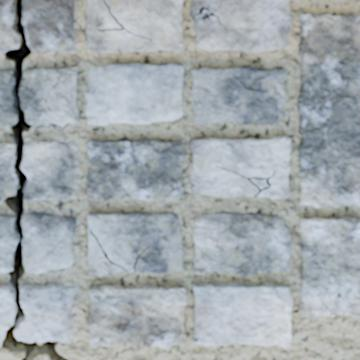brick: (298, 13, 359, 206), (88, 285, 187, 347), (194, 283, 291, 346), (190, 136, 290, 197), (87, 137, 184, 199), (193, 212, 289, 274), (86, 63, 183, 124), (300, 217, 359, 317), (88, 213, 181, 272), (191, 66, 285, 124), (191, 0, 292, 52), (86, 0, 182, 51), (88, 234, 122, 274)
broken_brick: (21, 66, 79, 126), (16, 283, 74, 342), (23, 211, 77, 274), (22, 139, 75, 201), (23, 0, 74, 51), (0, 214, 17, 273), (0, 68, 16, 127), (0, 0, 17, 53), (0, 142, 15, 201), (0, 285, 14, 342)
crack: (0, 0, 68, 359), (89, 228, 150, 273), (214, 164, 276, 196), (192, 4, 228, 32), (249, 67, 262, 72), (193, 336, 199, 343), (101, 272, 114, 275)
